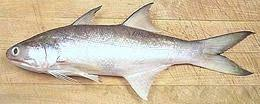Fourfinger Threadfish: (6, 2, 257, 100)
